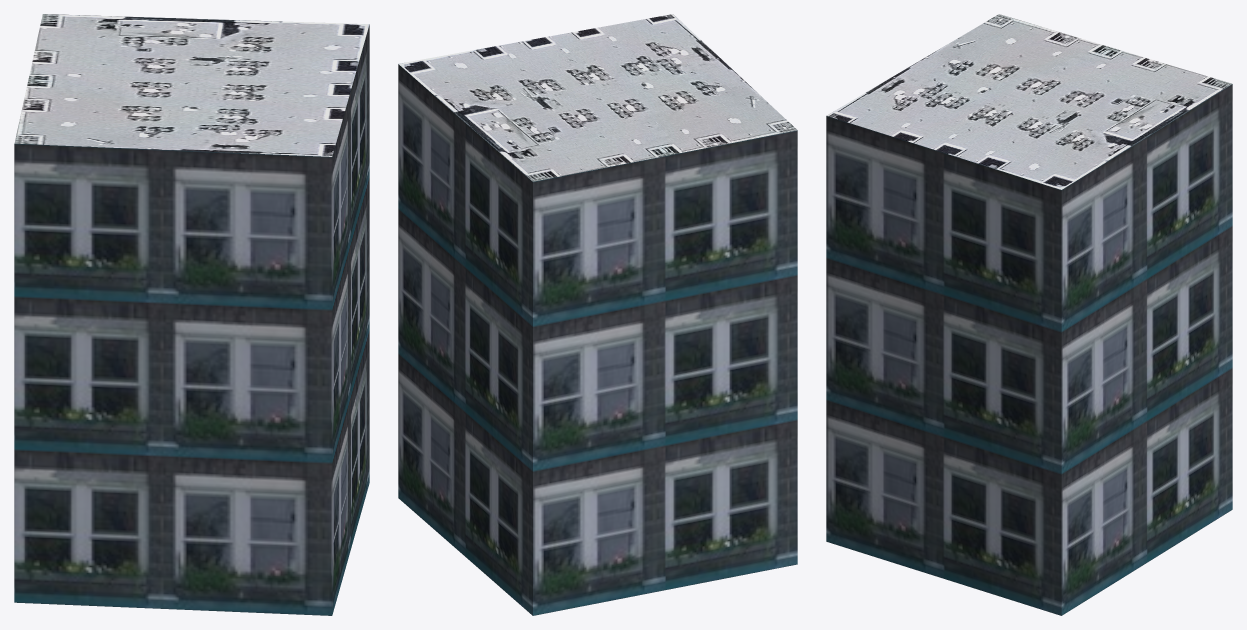
The model's file is ResTex__1076.fbx.
3 views of the same model, side by side, from view 1: azimuth 30°, elevation 25°; view 2: azimuth 150°, elevation 25°; view 3: azimuth 270°, elevation 25° (orthographic). The views are drawn at different scales.
Parts seen in each view (by area): view 1: CityEngineMaterial_11_m, CityEngineMaterial_4_m; view 2: CityEngineMaterial_11_m, CityEngineMaterial_4_m; view 3: CityEngineMaterial_11_m, CityEngineMaterial_4_m.
Boxes of the visible parts, box(x1,y1,x2,y2) form: CityEngineMaterial_11_m: box(14, 24, 369, 615); CityEngineMaterial_4_m: box(14, 14, 369, 156); CityEngineMaterial_11_m: box(398, 64, 797, 615); CityEngineMaterial_4_m: box(398, 14, 797, 181); CityEngineMaterial_11_m: box(826, 84, 1232, 615); CityEngineMaterial_4_m: box(827, 14, 1232, 189).
Size of the model in its own units: 7.98 by 9 by 7.78.
2 materials, 2 textured.
